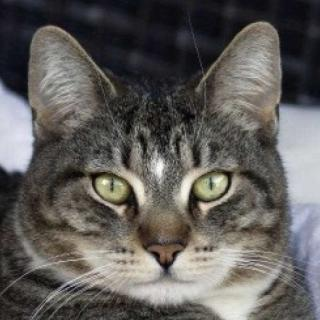cat: (21, 22, 291, 316)
nose: (131, 216, 196, 273)
